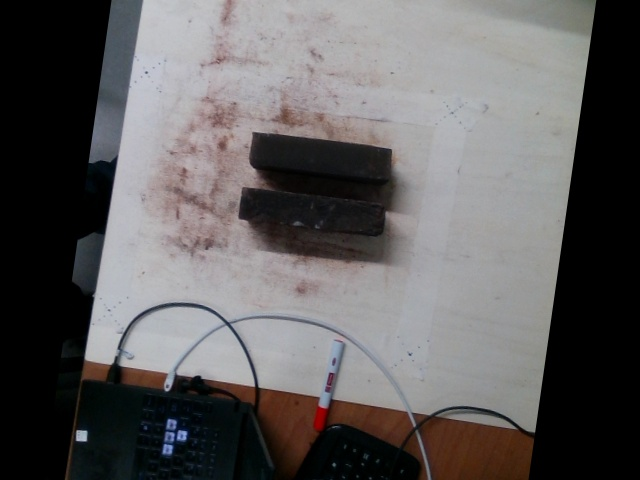brick-side: (240, 185, 386, 238), (251, 131, 391, 181)
